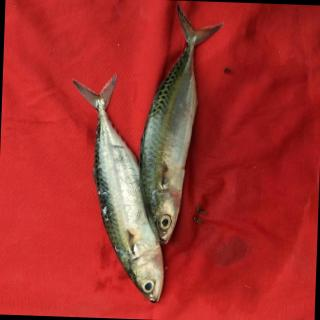Ikan: (42, 1, 236, 317)
